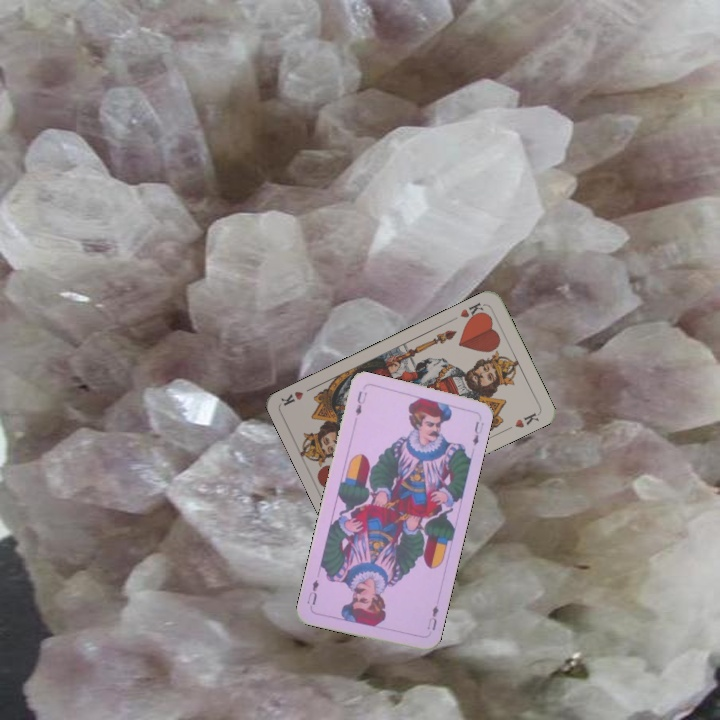EU: (351, 387, 370, 418), (423, 601, 441, 633)
HK: (456, 298, 488, 324)
